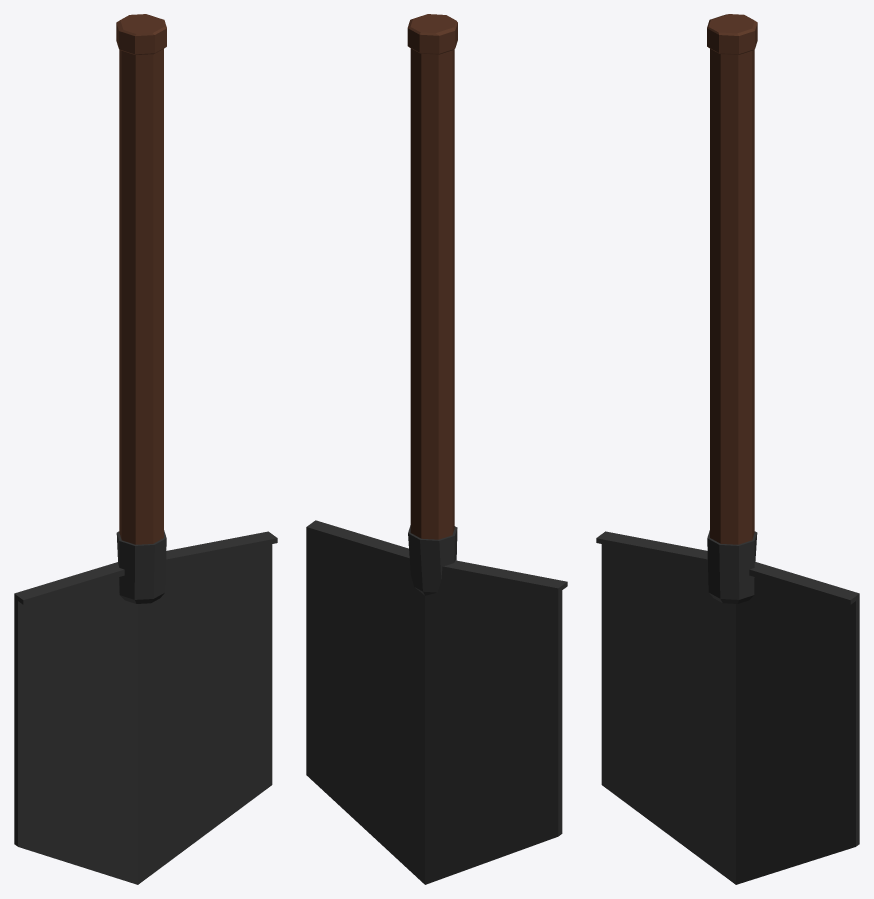
Rendered from Sapper_Spade_mat.fbx.
3 renders of one model, left to right at view 1: azimuth 30°, elevation 25°; view 2: azimuth 150°, elevation 25°; view 3: azimuth 330°, elevation 25°, orthographic.
Parts seen in each view (by area): view 1: Sapper_Spade_mat; view 2: Sapper_Spade_mat; view 3: Sapper_Spade_mat.
Boxes of the visible parts, bbox=[...] form: Sapper_Spade_mat: bbox=[14, 14, 277, 884]; Sapper_Spade_mat: bbox=[306, 14, 567, 884]; Sapper_Spade_mat: bbox=[596, 14, 859, 884].
Bounding box in the file's own units: 20.77 × 67.42 × 3.72.
